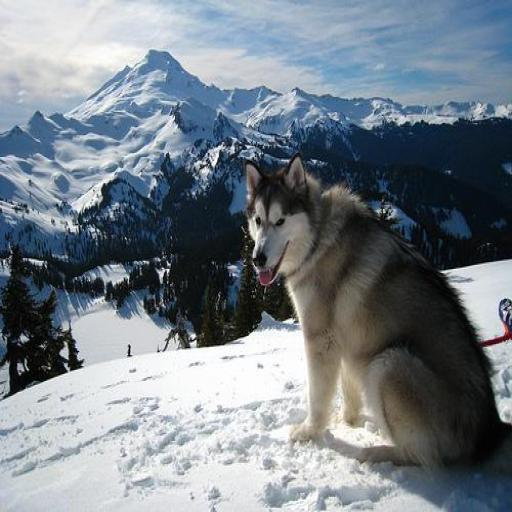dog_face: (244, 158, 308, 288)
